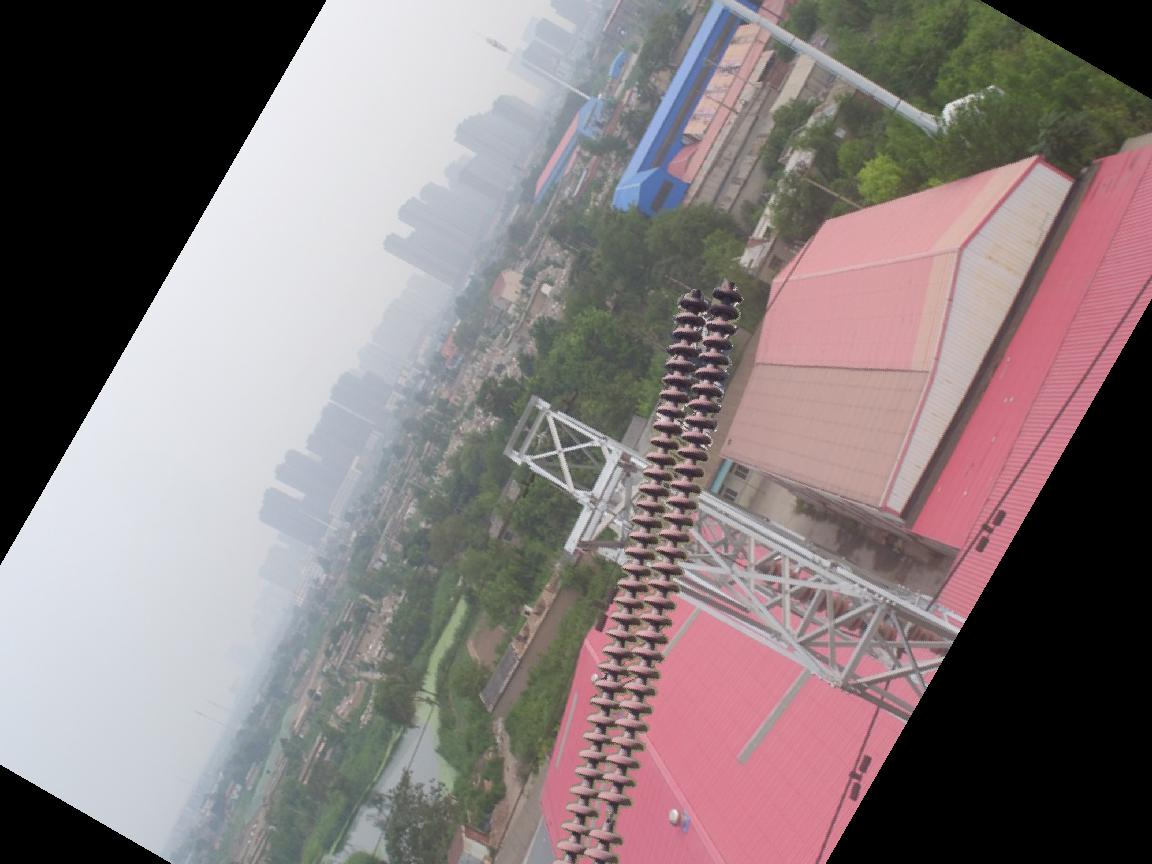insulator: (551, 281, 749, 864), (758, 555, 927, 656)
insulator_stringdrop: (585, 787, 635, 849)
